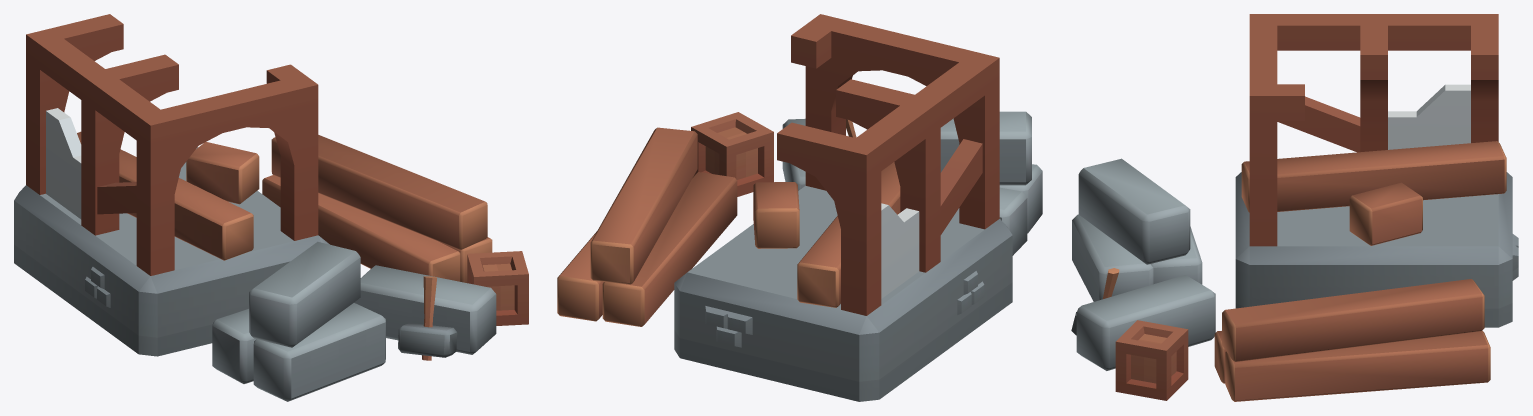
File: kaykit-medieval-hexagon-pack-building-stage-b.glb
3 views of the same model, side by side, from view 1: azimuth 30°, elevation 25°; view 2: azimuth 150°, elevation 25°; view 3: azimuth 270°, elevation 25° (orthographic). The views are drawn at different scales.
Parts seen in each view (by area): view 1: building_stage_B; view 2: building_stage_B; view 3: building_stage_B.
Part boxes in pixels (bbox=[...]): building_stage_B: bbox=[14, 14, 528, 401]; building_stage_B: bbox=[557, 14, 1042, 401]; building_stage_B: bbox=[1071, 14, 1518, 401].
Size of the model in its own units: 1.02 by 0.6359 by 1.13.
1 material, 1 textured.
